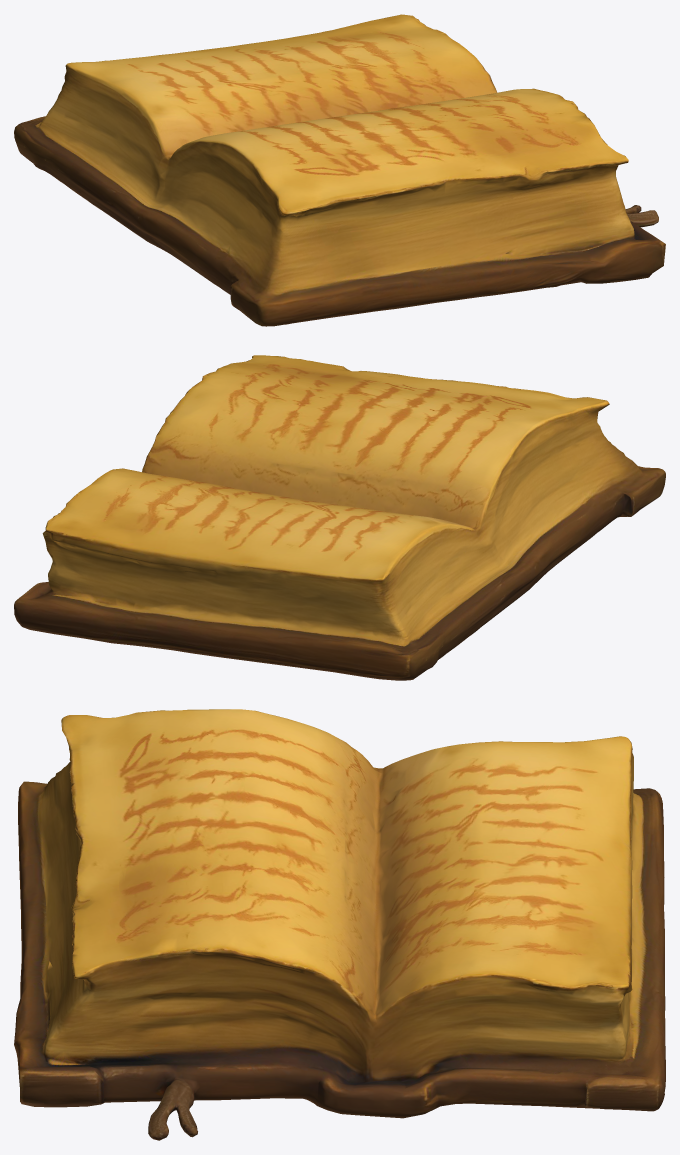
The model's file is ancient+book.fbx.
3 renders of one model, top to bottom at view 1: azimuth 30°, elevation 25°; view 2: azimuth 150°, elevation 25°; view 3: azimuth 270°, elevation 25°, orthographic. The views are drawn at different scales.
Parts seen in each view (by area): view 1: tripo_node_9dae313e; view 2: tripo_node_9dae313e; view 3: tripo_node_9dae313e.
Boxes of the visible parts, x1=… form: tripo_node_9dae313e: x1=14, y1=14, x2=665, y2=326; tripo_node_9dae313e: x1=14, y1=355, x2=665, y2=680; tripo_node_9dae313e: x1=14, y1=709, x2=665, y2=1140.
Size of the model in its own units: 0.9999 by 0.3328 by 0.9844.
Materials: 1 (1 with a texture image).
